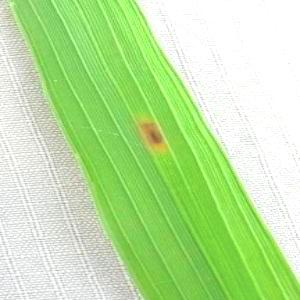0 BrownSpot: (131, 109, 174, 157)
